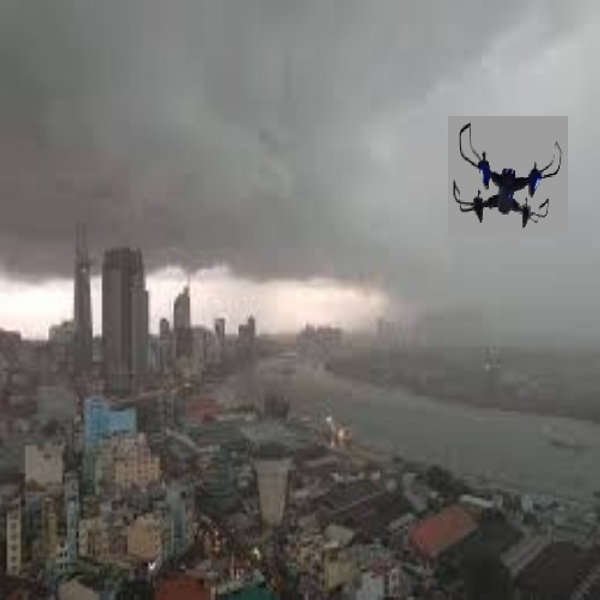drone: (451, 120, 565, 232)
